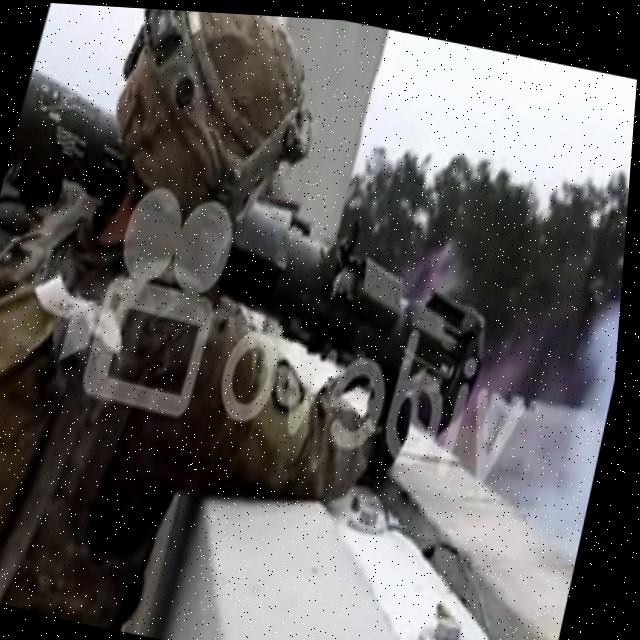rocket: (0, 72, 537, 441)
